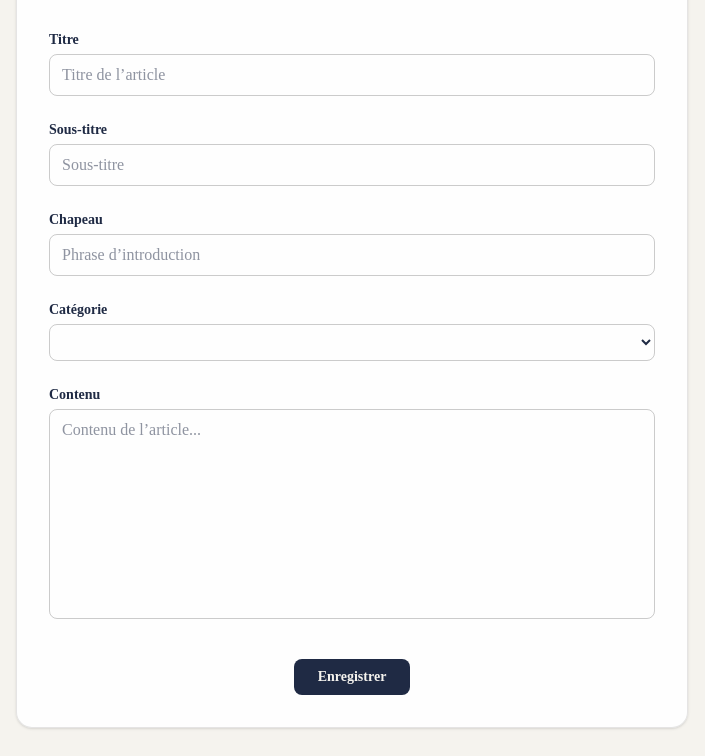
Test: ArticleForm › Displays error messages when form is submitted without required fields
(page scrolled)
Click the button "Enregistrer" at {"x": 352, "y": 677}, box x1=294 y1=659 x2=410 y2=695
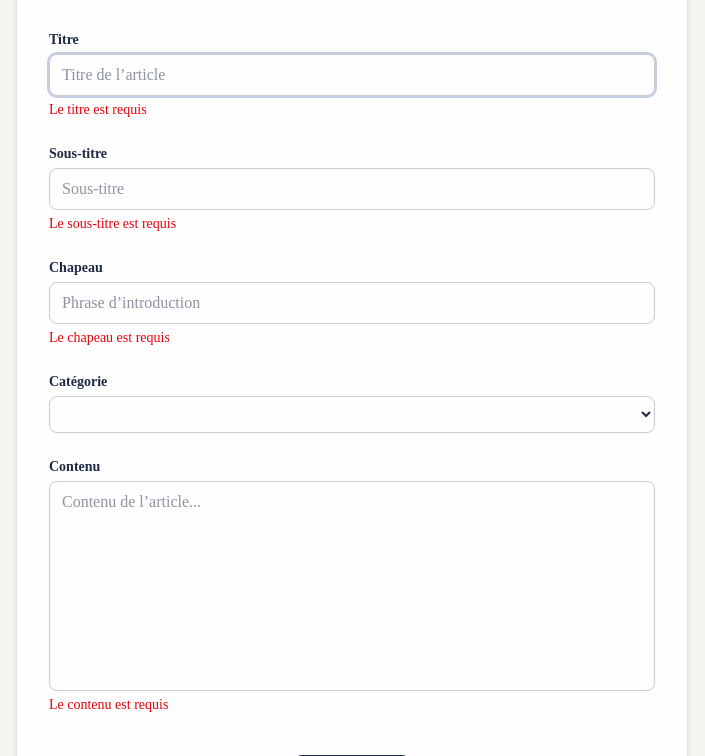
Expected: the text "Le titre est requis" is shown, x1=49 y1=102 x2=147 y2=117
Expected: the text "Le sous-titre est requis" is shown, x1=49 y1=216 x2=176 y2=231
Expected: the text "Le chapeau est requis" is shown, x1=49 y1=330 x2=170 y2=345
